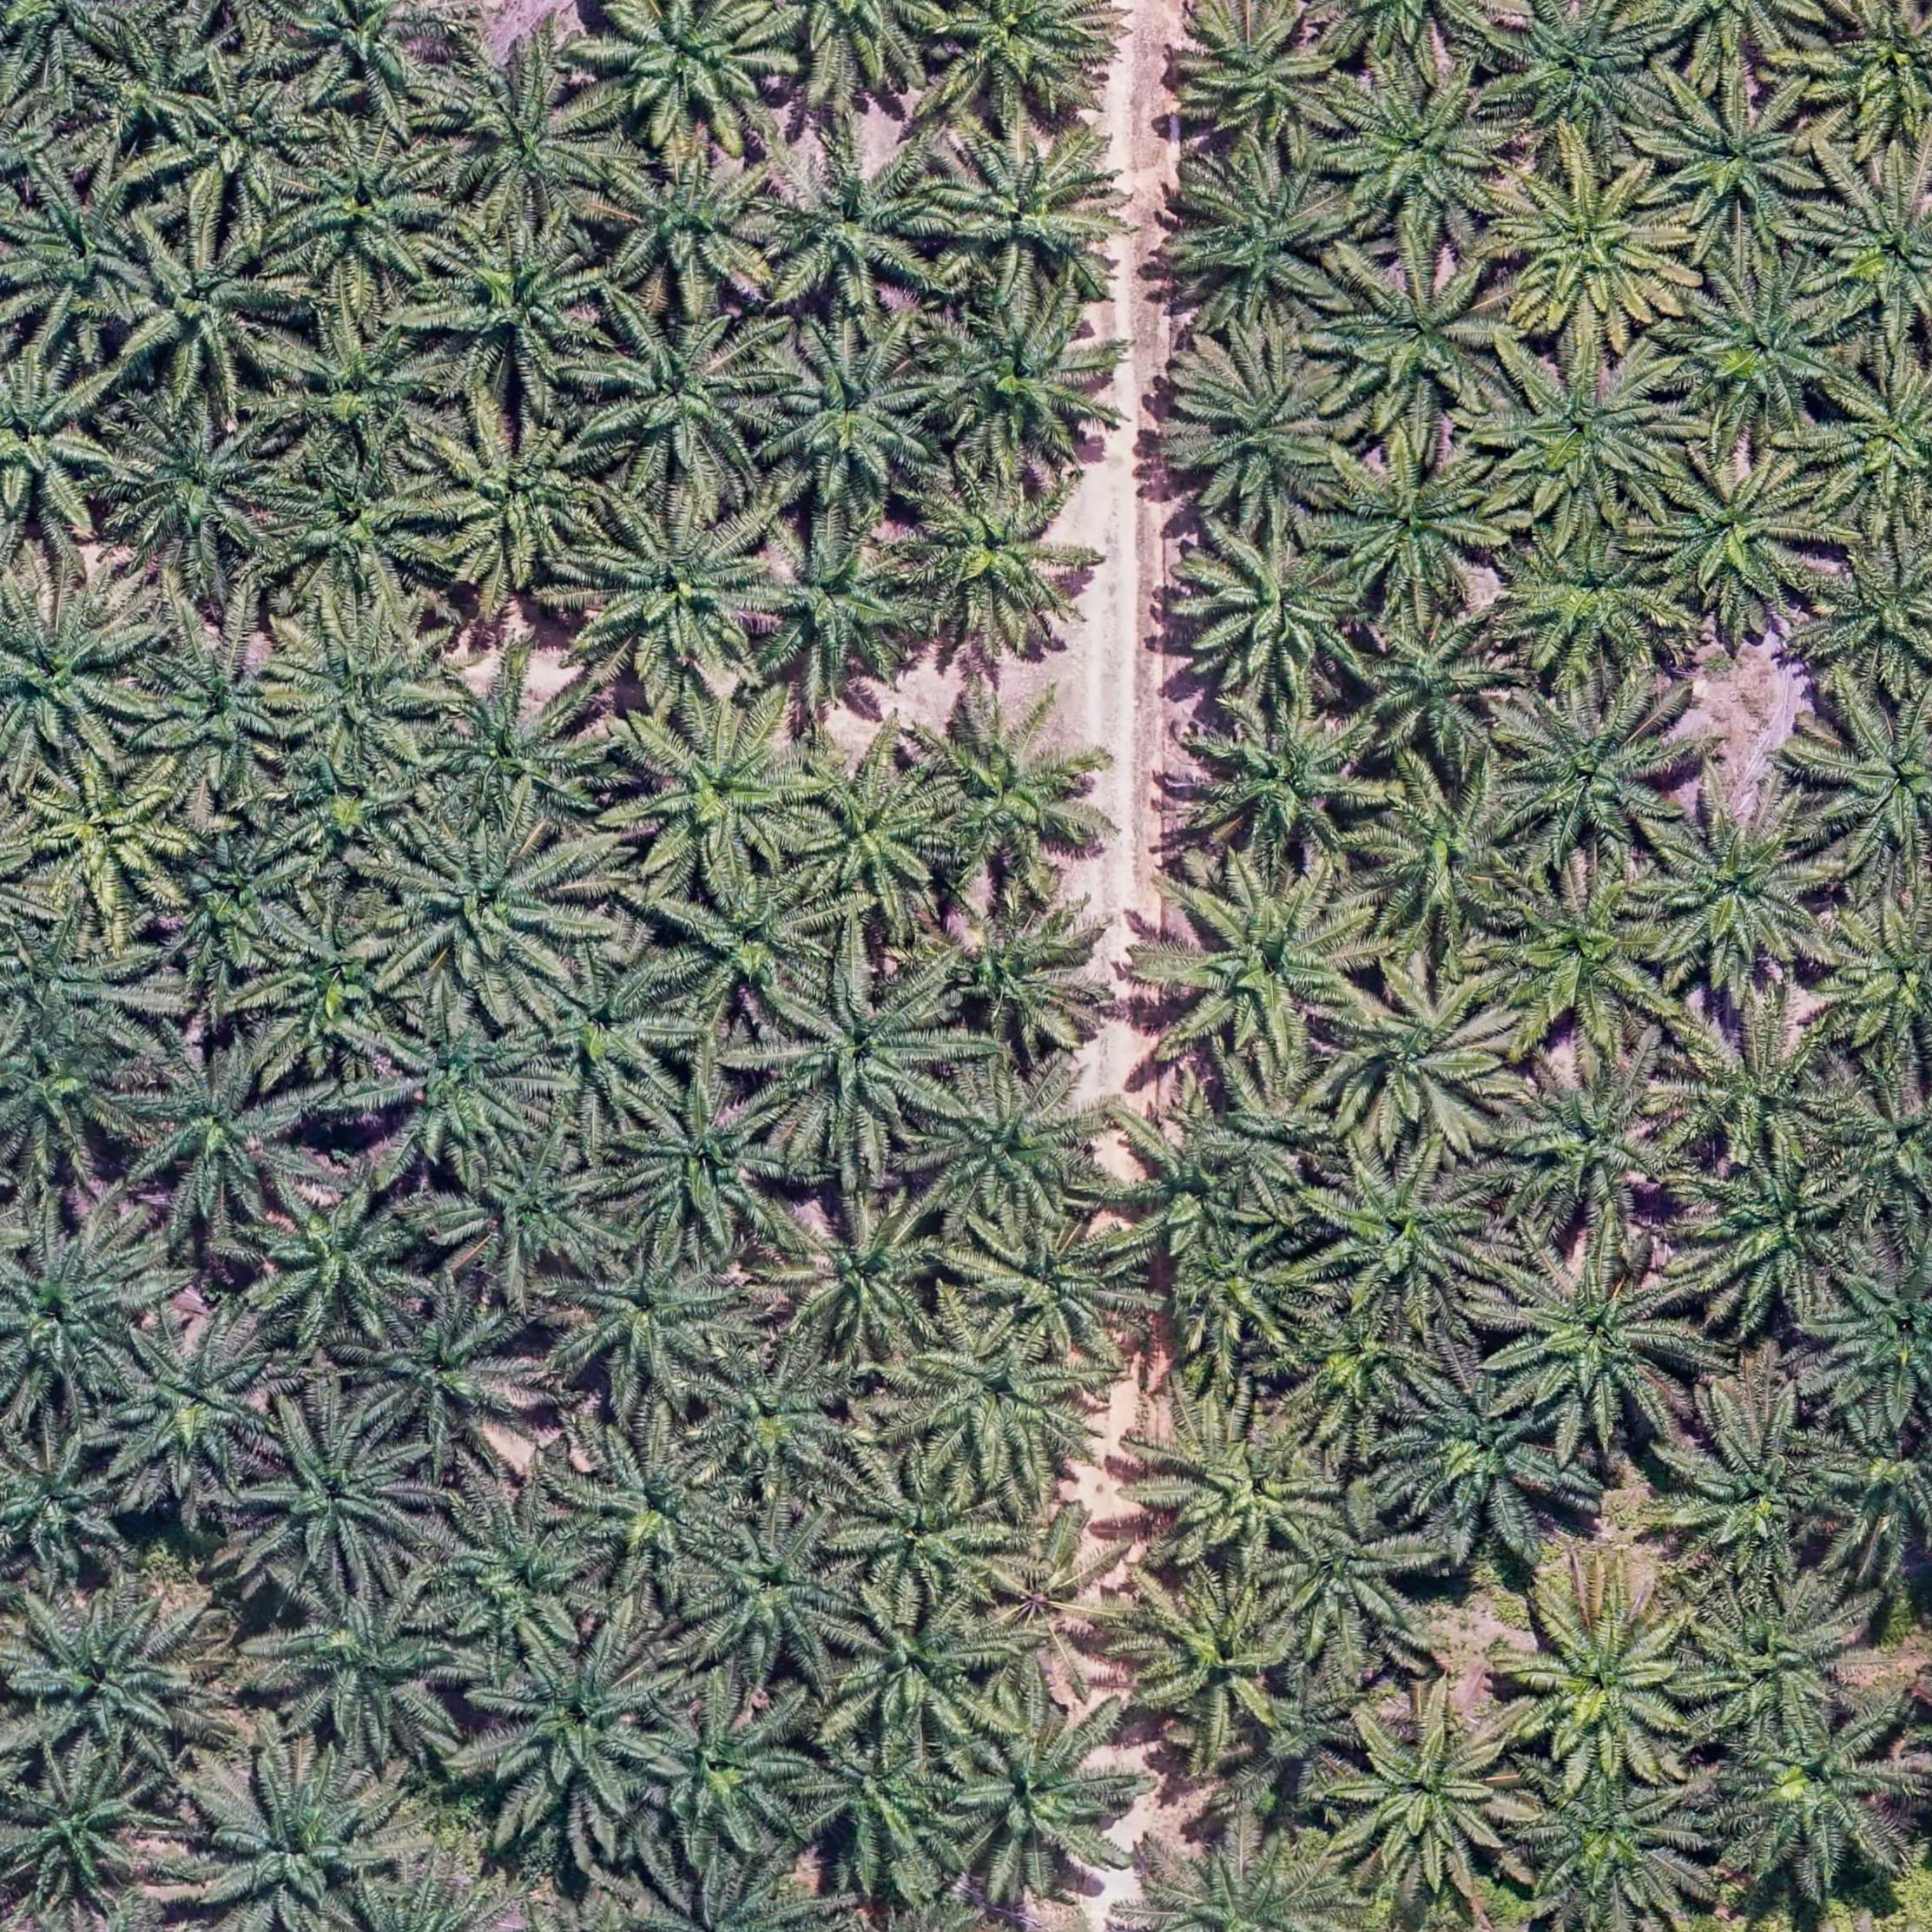palmtree: (1136, 856, 1382, 1076), (1486, 1235, 1707, 1451), (455, 1617, 678, 1831), (1493, 1571, 1713, 1787), (932, 1690, 1152, 1904), (564, 481, 784, 695), (113, 1023, 333, 1233), (603, 685, 824, 890), (1125, 1385, 1348, 1583), (1316, 1690, 1530, 1895), (173, 1737, 400, 1930), (379, 805, 596, 1003), (1704, 1698, 1921, 1890), (2, 1585, 221, 1775), (1635, 782, 1840, 984), (1484, 1049, 1697, 1242), (745, 120, 955, 313), (1297, 1141, 1509, 1332), (908, 678, 1102, 885), (1318, 952, 1518, 1152), (745, 317, 948, 513), (893, 456, 1093, 655), (761, 955, 959, 1155), (757, 1182, 968, 1368), (235, 1398, 435, 1592), (338, 1283, 547, 1468), (888, 1300, 1088, 1493), (1106, 1560, 1309, 1750), (1481, 336, 1684, 525), (916, 283, 1118, 471), (352, 993, 552, 1180), (1490, 862, 1681, 1056), (1500, 1750, 1709, 1927), (609, 1060, 800, 1253), (1491, 147, 1688, 334), (1182, 690, 1385, 870), (1499, 678, 1690, 869), (938, 119, 1131, 308), (584, 299, 778, 487), (1675, 1132, 1872, 1318), (1683, 1568, 1886, 1746), (1178, 522, 1375, 706), (1667, 1387, 1845, 1589), (425, 403, 616, 591), (927, 878, 1122, 1062), (423, 656, 617, 840), (918, 1058, 1122, 1231), (241, 1169, 437, 1348), (249, 1571, 464, 1734), (743, 510, 934, 692), (1635, 441, 1829, 619), (1389, 1362, 1573, 1550), (628, 1684, 819, 1865), (106, 218, 301, 395), (547, 1230, 750, 1398), (428, 211, 614, 395), (1355, 764, 1545, 945), (1171, 338, 1353, 524), (104, 398, 295, 575), (821, 1585, 1016, 1759), (1323, 433, 1513, 610), (0, 1200, 161, 1407), (1670, 253, 1856, 430), (262, 600, 451, 773), (428, 39, 619, 211), (676, 1509, 863, 1683), (1320, 248, 1511, 418), (430, 1123, 623, 1292), (780, 752, 961, 931), (0, 1750, 177, 1932), (267, 306, 453, 479), (1341, 596, 1523, 771), (651, 860, 833, 1035), (1325, 64, 1513, 234), (556, 1422, 743, 1592), (131, 621, 304, 803), (1665, 1000, 1851, 1169), (1493, 511, 1681, 679), (1177, 150, 1359, 320), (957, 1201, 1146, 1364), (426, 1493, 607, 1663), (787, 1721, 973, 1886), (0, 564, 154, 761), (1642, 67, 1822, 234), (19, 750, 195, 916), (837, 1451, 1017, 1610), (251, 890, 416, 1063), (594, 145, 782, 295), (142, 824, 313, 985), (586, 0, 786, 138), (1154, 1212, 1329, 1366), (1805, 1212, 1932, 1421), (278, 140, 453, 290), (0, 341, 129, 545), (1803, 678, 1932, 881), (7, 159, 165, 326), (1277, 1513, 1437, 1674), (975, 1530, 1132, 1693), (918, 0, 1123, 122), (1490, 0, 1668, 140), (1177, 4, 1348, 149), (154, 78, 341, 211), (129, 1330, 280, 1495), (1808, 881, 1932, 1072), (699, 1346, 860, 1493), (1132, 1108, 1315, 1237), (269, 0, 464, 119), (0, 1421, 138, 1585), (1810, 156, 1932, 338), (1812, 347, 1932, 527), (1803, 533, 1932, 697), (281, 469, 442, 594), (536, 968, 694, 1093), (1803, 0, 1932, 152), (0, 934, 131, 1051), (0, 1062, 108, 1157)
